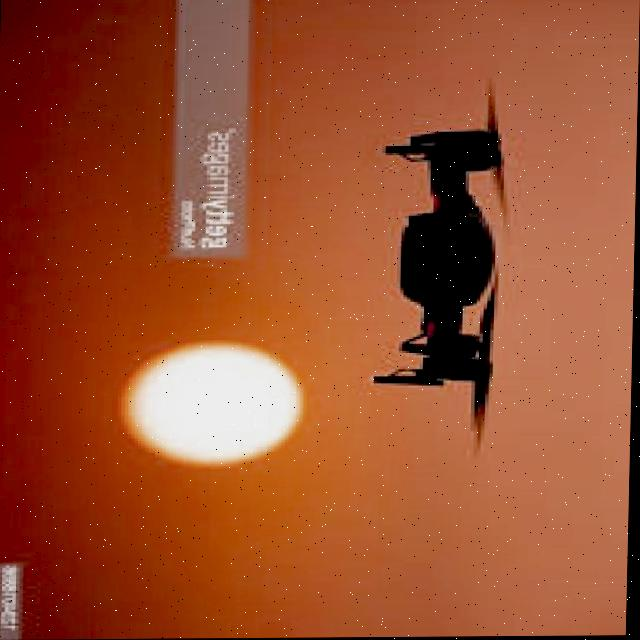drone: (348, 67, 538, 462)
